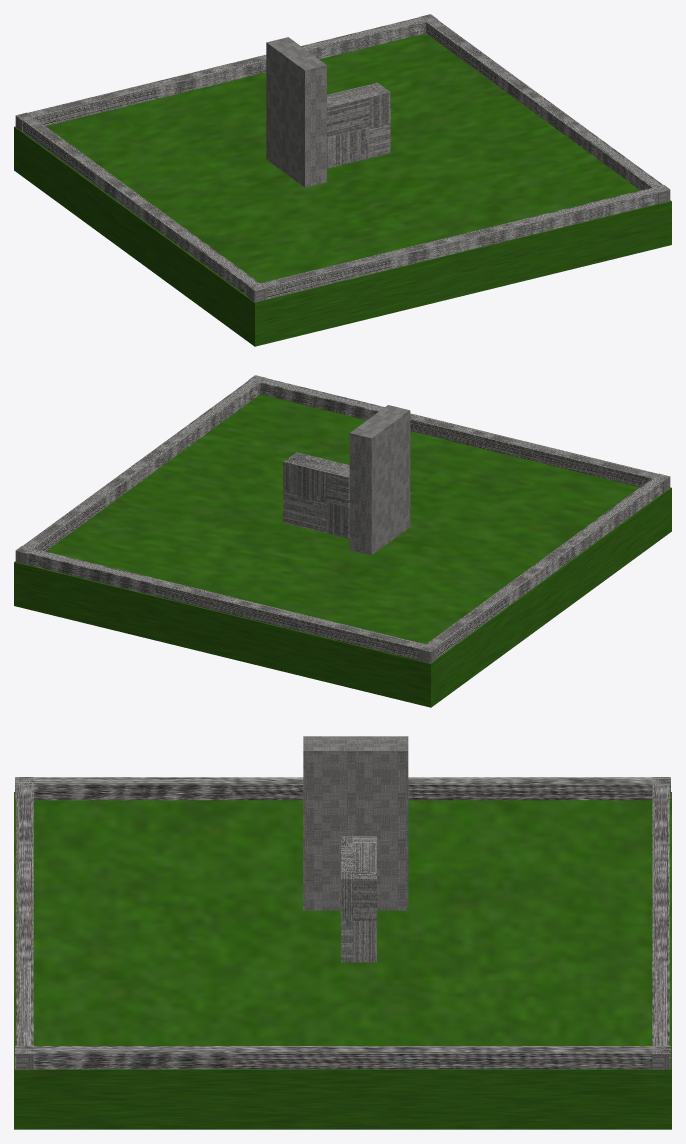
File: world.glb
3 views of the same model, one above another, from view 1: azimuth 30°, elevation 25°; view 2: azimuth 150°, elevation 25°; view 3: azimuth 270°, elevation 25° (orthographic). The views are drawn at different scales.
Visible parts, largest first — view 1: Cube.001, Cube.007, Cube.004, Cube.005, Cube.002, Cube.003, Cube.006; view 2: Cube.001, Cube.007, Cube.005, Cube.004, Cube.002, Cube.003, Cube.006; view 3: Cube.001, Cube.007, Cube.003, Cube.002, Cube.005, Cube.004, Cube.006.
Boxes of the visible parts, <box> form: Cube.001: <box>14,33,671,346</box>; Cube.007: <box>266,37,326,187</box>; Cube.004: <box>248,185,670,302</box>; Cube.005: <box>15,14,437,131</box>; Cube.002: <box>16,112,266,302</box>; Cube.003: <box>419,14,670,203</box>; Cube.006: <box>327,82,390,168</box>; Cube.001: <box>14,394,671,707</box>; Cube.007: <box>349,405,410,555</box>; Cube.005: <box>15,546,437,663</box>; Cube.004: <box>248,375,670,492</box>; Cube.002: <box>419,473,669,663</box>; Cube.003: <box>15,375,266,564</box>; Cube.006: <box>283,452,349,538</box>; Cube.001: <box>14,792,671,1129</box>; Cube.007: <box>303,736,408,910</box>; Cube.003: <box>15,1046,670,1069</box>; Cube.002: <box>15,777,670,800</box>; Cube.005: <box>652,777,669,1069</box>; Cube.004: <box>16,777,33,1069</box>; Cube.006: <box>341,836,376,962</box>.
Size of the model in its own units: 600 by 221 by 600.
Materials: 2 (2 with a texture image).
